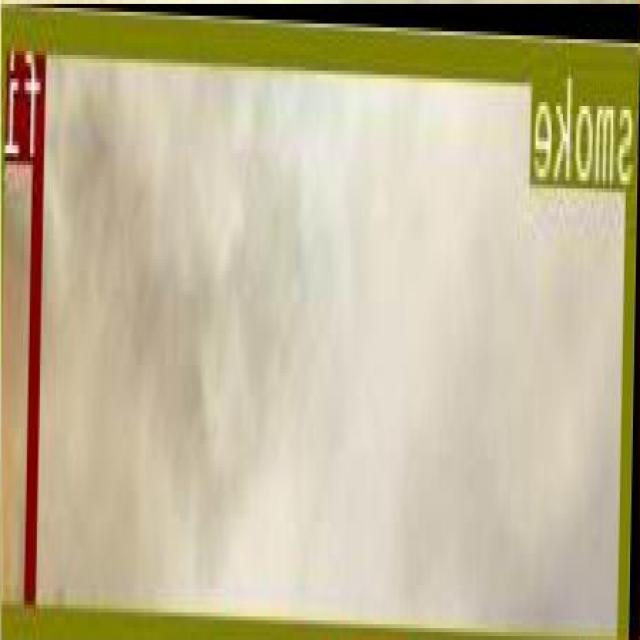smoke: (1, 4, 640, 640)
